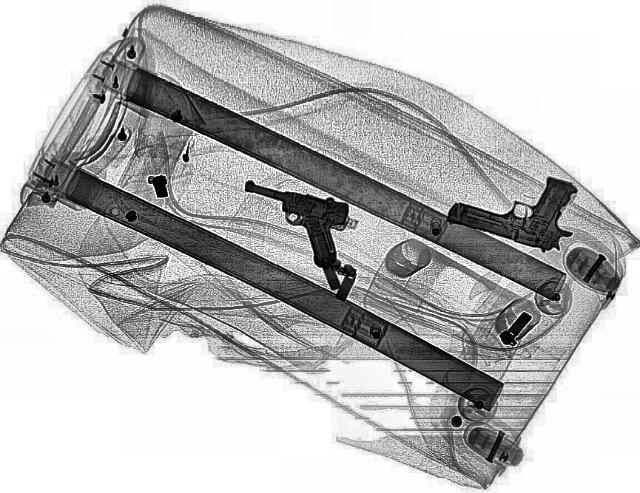Gun: (439, 156, 597, 256), (215, 174, 367, 270)
